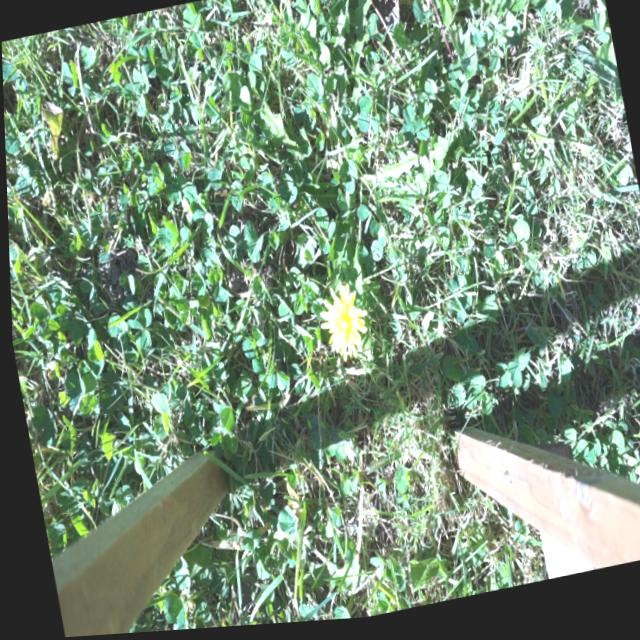flower: (313, 285, 370, 369)
